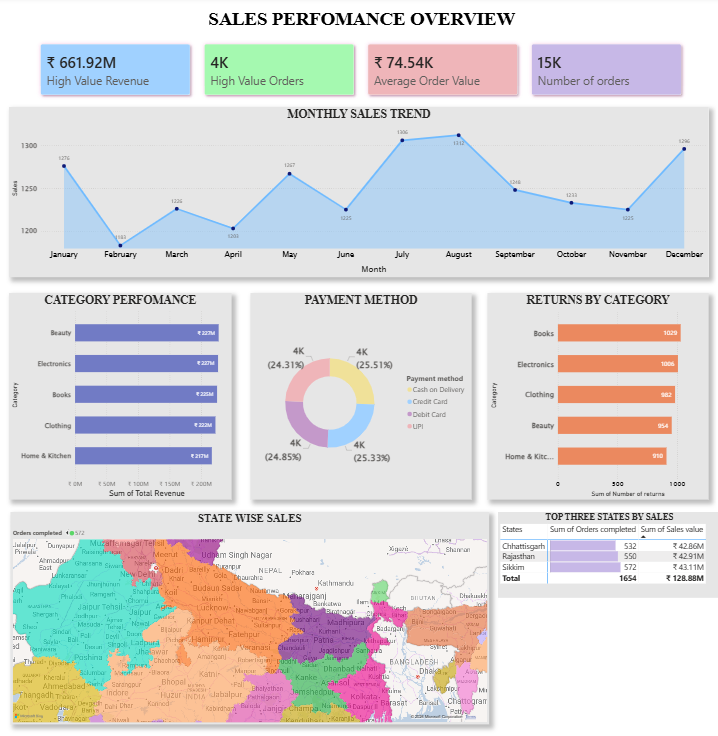

Layout of this report page (visuals, bound fields, positions):
{"tool":"powerbi","page":{"name":"Amazon India Sales 2025 Dashboard","canvas":[1650,1700],"ordinal":0},"visuals":[{"type":"textbox","box":[363.4,3.6,928.4,82.8],"z":0},{"type":"cardVisual","fields":{"Data":["Sum(High Value orders.Total Revenue from High value orders)","Sum(High Value orders.Number of High value orders)","Category Perfomance.Avg ordr value","Sum(Category Perfomance.Number of orders)"]},"box":[68.4,86.4,1518.5,165.5],"z":1000},{"type":"lineChart","title":"MONTHLY SALES TREND","fields":{"Category":["Monthly sales trends.Month"],"Y":["Sum(Monthly sales trends.Number of Orders)"]},"box":[20,253.3,1603.3,390],"z":2000},{"type":"barChart","title":"CATEGORY PERFOMANCE","fields":{"Category":["Category Perfomance.Category"],"Y":["Sum(Category Perfomance.Total Revenue)"]},"box":[20,680,510,473.3],"z":3000},{"type":"donutChart","title":"PAYMENT METHOD","fields":{"Y":["Sum(Payment Method preferences.Number of orders)"],"Category":["Payment Method preferences.Payment method"]},"box":[573.3,680,506.7,473.3],"z":4000},{"type":"barChart","title":"RETURNS BY CATEGORY","fields":{"Category":["Returns by Category.Category"],"Y":["Sum(Returns by Category.Number of returns)"]},"box":[1116.7,680,506.7,473.3],"z":5000},{"type":"filledMap","title":"STATE WISE SALES","fields":{"Category":["State wise sales.States"],"Series":["State wise sales.Orders completed"]},"box":[23.3,1183.3,1096.7,486.7],"z":6000},{"type":"pivotTable","title":"TOP THREE STATES BY SALES","fields":{"Values":["Sum(State wise sales.Orders completed)","Sum(State wise sales.Sales value)"],"Rows":["State wise sales.States"]},"box":[1140,1183.3,510,196.7],"z":7000}]}

Visuals, with their boxes in screenshot pixels (x1, y1, x2, y2), scaled from the page's 1650x1700 canvas onto the 718x736 screenshot:
textbox: crop(158, 2, 562, 37)
cardVisual - Sum(High Value orders.Total Revenue from High value orders) x Sum(High Value orders.Number of High value orders): crop(30, 37, 691, 109)
"MONTHLY SALES TREND" lineChart: crop(9, 110, 706, 279)
"CATEGORY PERFOMANCE" barChart: crop(9, 294, 231, 499)
"PAYMENT METHOD" donutChart: crop(249, 294, 470, 499)
"RETURNS BY CATEGORY" barChart: crop(486, 294, 706, 499)
"STATE WISE SALES" filledMap: crop(10, 512, 487, 723)
"TOP THREE STATES BY SALES" pivotTable: crop(496, 512, 717, 597)
